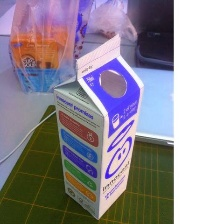carton: (49, 31, 151, 224)
plastic_bag: (6, 0, 87, 99), (87, 0, 147, 44)
